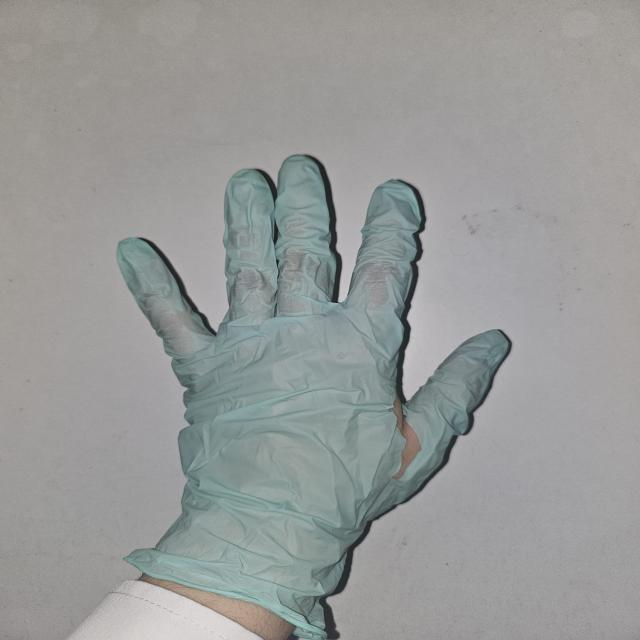gloves_damaged: (112, 151, 512, 630)
